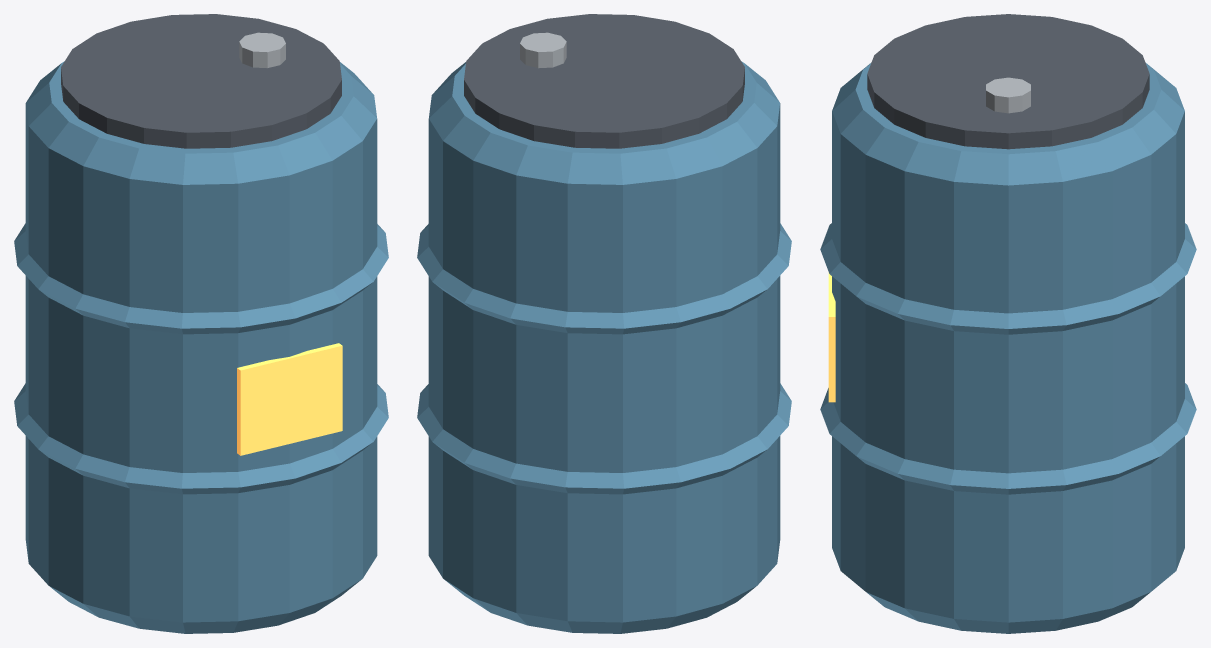
The model's file is spaceship-deck-kit-supply-drum-ee291518__12591.glb.
3 views of the same model, side by side, from view 1: azimuth 30°, elevation 25°; view 2: azimuth 150°, elevation 25°; view 3: azimuth 270°, elevation 25° (orthographic).
Parts seen in each view (by area): view 1: supply-drum; view 2: supply-drum; view 3: supply-drum.
Part boxes in pixels (<box>): supply-drum: <box>14,14,388,633</box>; supply-drum: <box>417,14,791,633</box>; supply-drum: <box>820,14,1196,633</box>.
Bounding box in the file's own units: 0.64 × 0.96 × 0.64.
